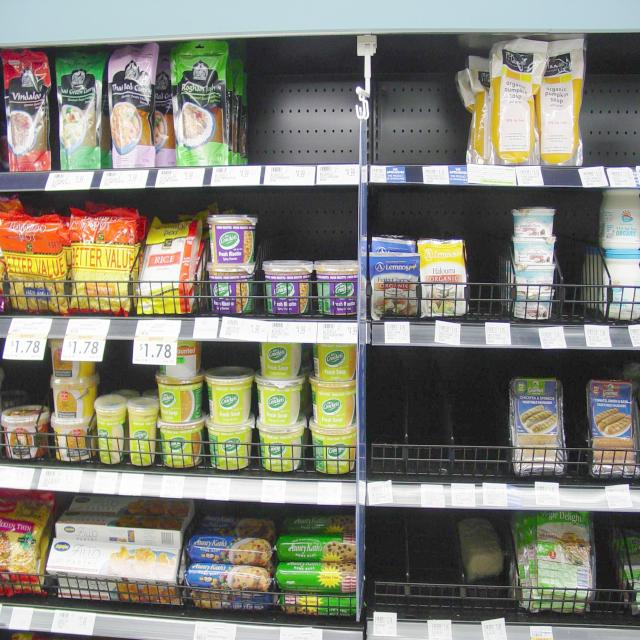empty_space: (370, 521, 506, 617), (373, 376, 502, 462), (250, 54, 350, 153), (378, 65, 459, 151), (593, 64, 639, 155), (272, 215, 360, 253), (560, 213, 594, 311), (470, 223, 498, 311)
